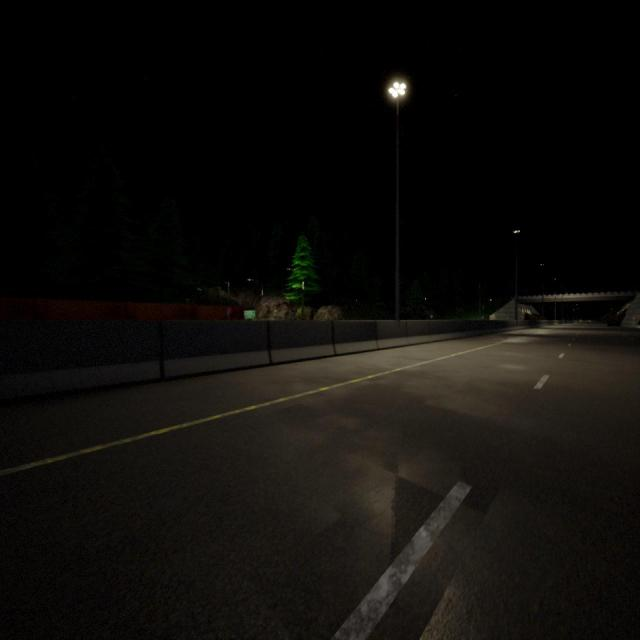Vehicle: (607, 317, 620, 328)
